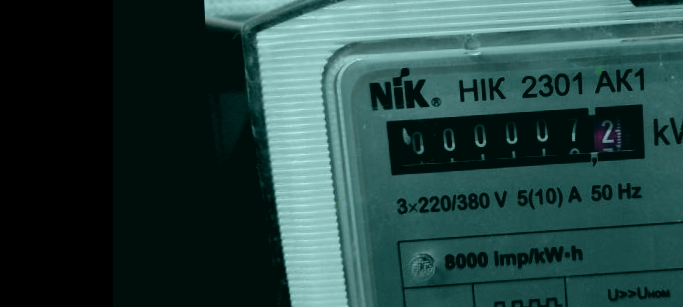0: (408, 127, 426, 155), (502, 118, 520, 145), (440, 124, 457, 152), (471, 120, 488, 148), (534, 115, 550, 144)
2: (599, 118, 616, 144)
7: (565, 113, 581, 144)
screen: (375, 97, 657, 180)
